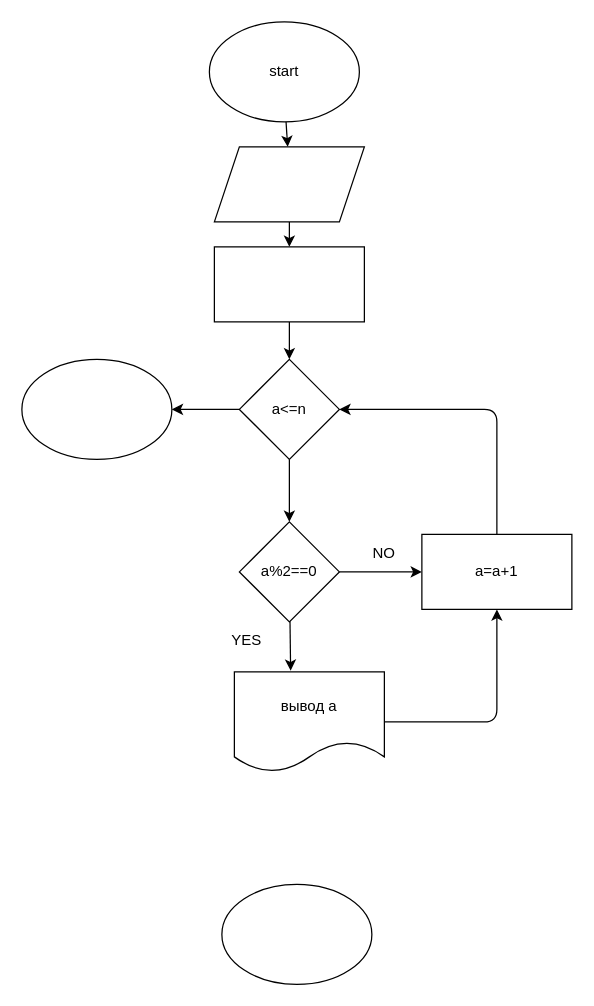
Image size: 594x1006. Some labels were removed from this diagram. Each missing label, with the centre of its shape:
a=1: the point at 288,284
end: the point at 96,408
ввод N: the point at 288,184
